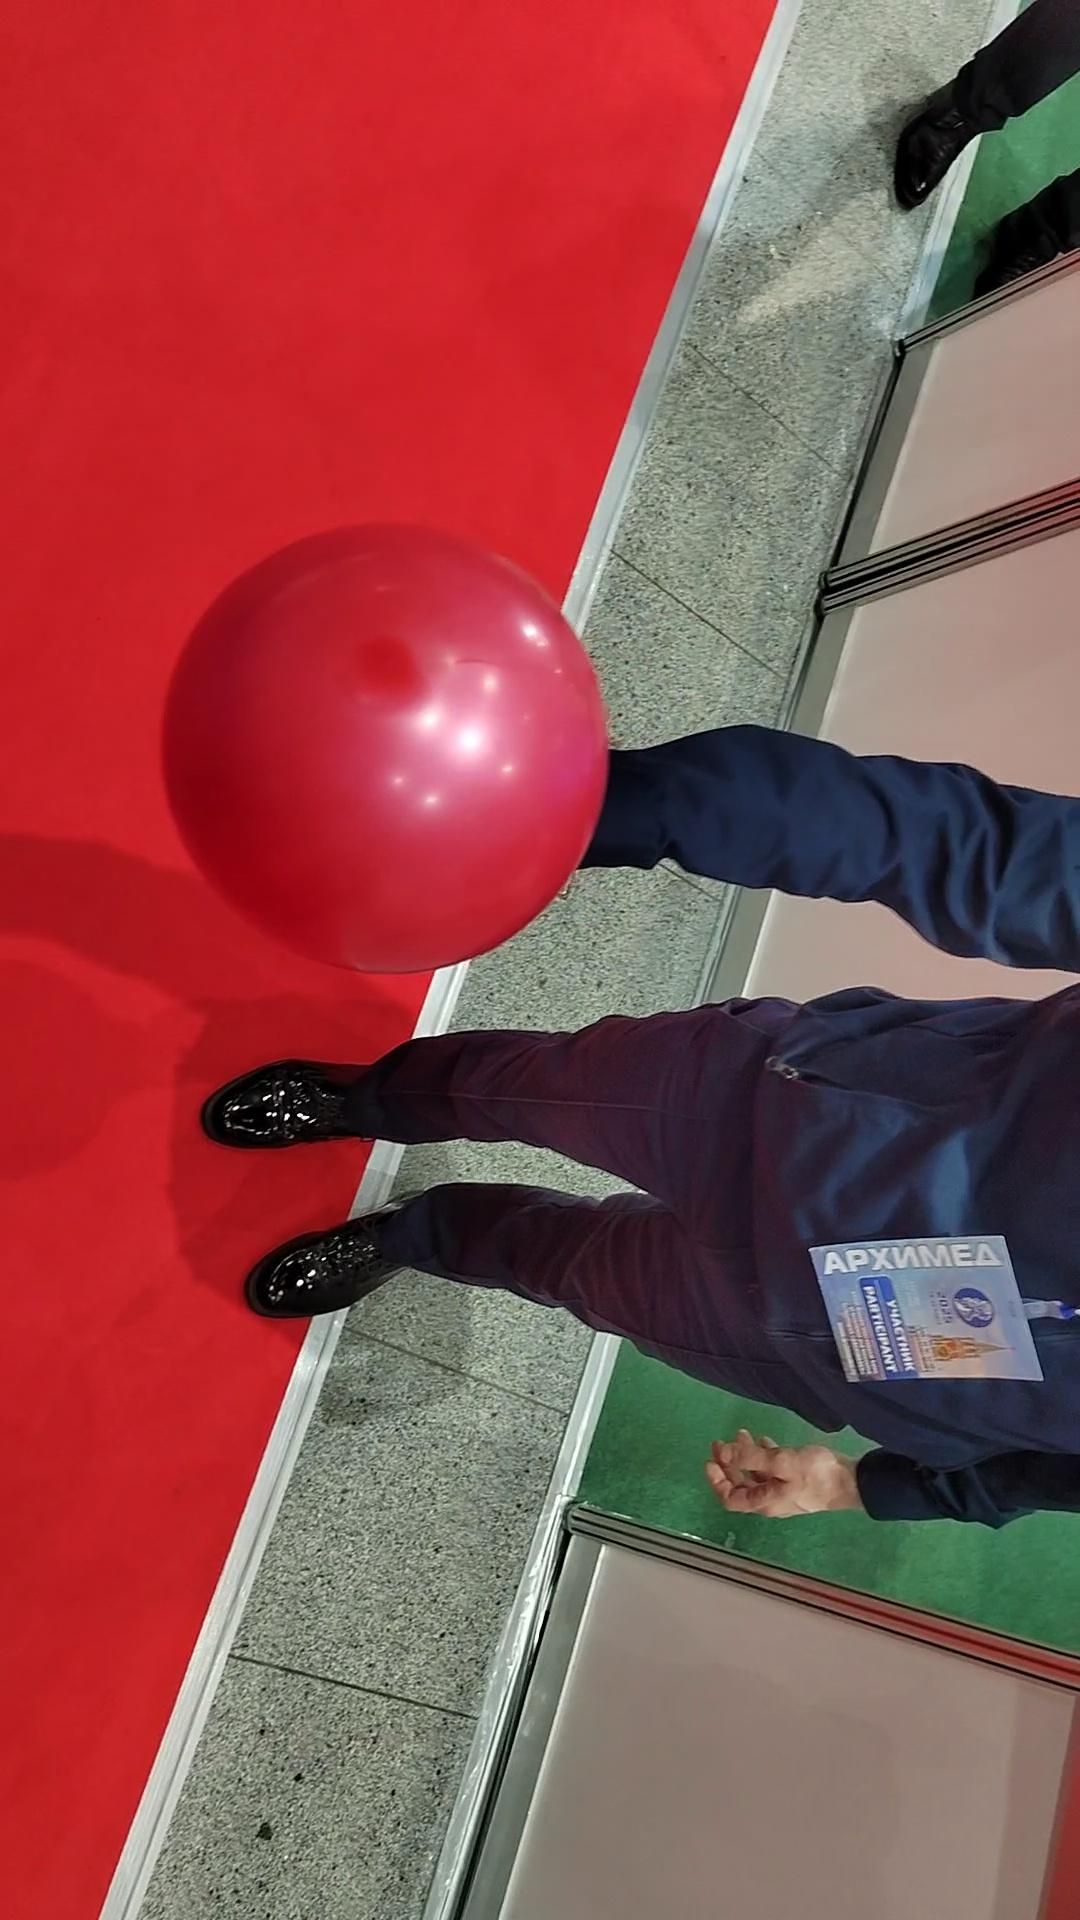red: (153, 518, 609, 981)
